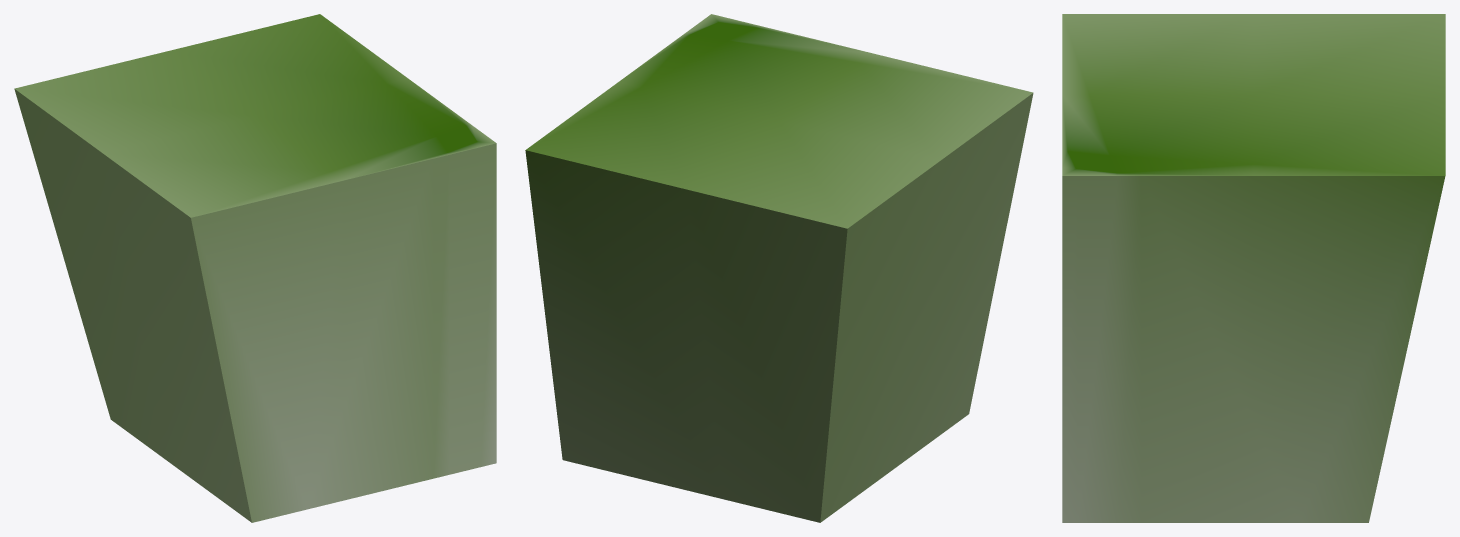
File: T6DirR.fbx
The picture shows the model from 3 angles, left to right: view 1: azimuth 30°, elevation 25°; view 2: azimuth 150°, elevation 25°; view 3: azimuth 270°, elevation 25°; orthographic projection. The views are drawn at different scales.
Parts seen in each view (by area): view 1: 3, 1, 4, 2; view 2: 4, 2, 3, 1; view 3: 1, 2, 3, 4.
Part boxes in pixels (box(x1,y1,x2,y2)): 3: box(102, 116, 343, 522); 1: box(256, 78, 496, 500); 4: box(14, 51, 254, 457); 2: box(167, 14, 407, 115); 4: box(686, 121, 940, 522); 2: box(525, 82, 778, 499); 3: box(780, 53, 1033, 481); 1: box(619, 14, 871, 121); 1: box(1062, 95, 1253, 522); 2: box(1254, 95, 1445, 522); 3: box(1062, 14, 1253, 94); 4: box(1254, 14, 1445, 94).
Bounding box in the file's own units: 200 × 200 × 200.
